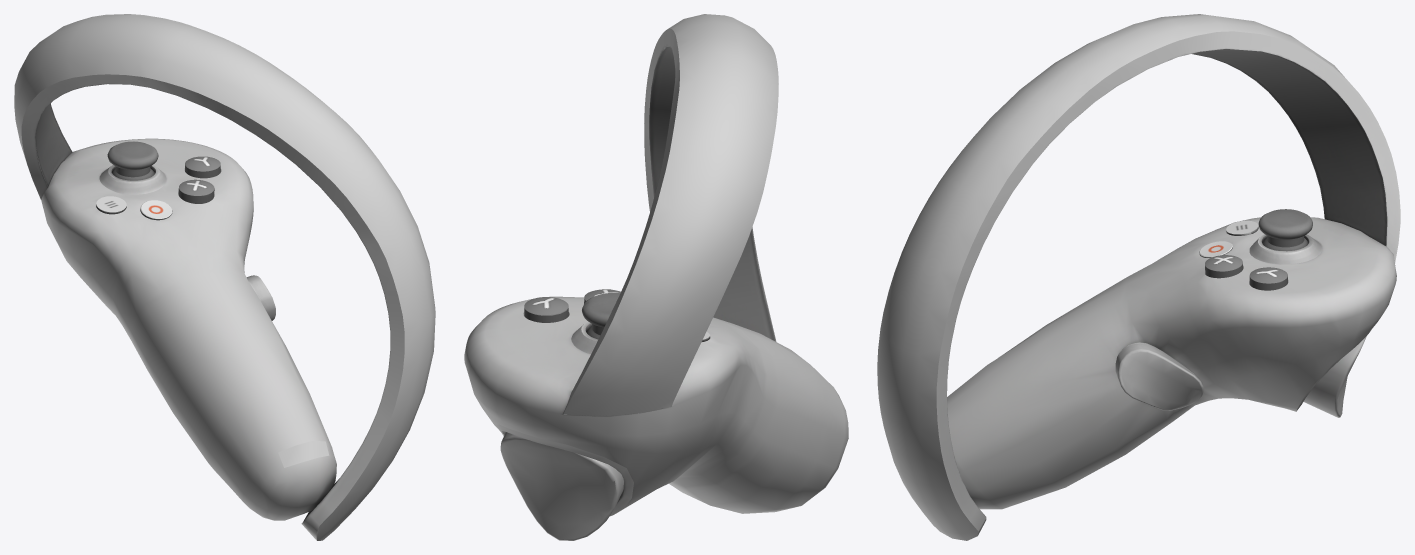
The model's file is left.glb.
The picture shows the model from 3 angles, left to right: view 1: azimuth 30°, elevation 25°; view 2: azimuth 150°, elevation 25°; view 3: azimuth 270°, elevation 25°; orthographic projection. The views are drawn at different scales.
Visible parts, largest first — view 1: body, joystick, Power, x_button, y_button, grip, polySurface6; view 2: body, trigger, joystick, y_button; view 3: body, grip, joystick, trigger, y_button, x_button.
Boxes of the visible parts, bbox=[...] form: body: bbox=[14, 14, 435, 540]; joystick: bbox=[107, 141, 158, 180]; Power: bbox=[278, 441, 329, 467]; x_button: bbox=[178, 179, 214, 203]; y_button: bbox=[185, 156, 220, 178]; grip: bbox=[246, 275, 275, 320]; polySurface6: bbox=[140, 200, 172, 220]; body: bbox=[464, 14, 848, 516]; trigger: bbox=[500, 432, 623, 540]; joystick: bbox=[582, 293, 620, 339]; y_button: bbox=[524, 297, 568, 322]; body: bbox=[877, 14, 1400, 540]; grip: bbox=[1115, 342, 1203, 410]; joystick: bbox=[1258, 209, 1312, 251]; trigger: bbox=[1303, 336, 1366, 417]; y_button: bbox=[1249, 267, 1287, 290]; x_button: bbox=[1205, 255, 1243, 278].
Bounding box in the file's own units: 0.0744 × 0.1341 × 0.1315.
Materials: 2 (1 with a texture image).
